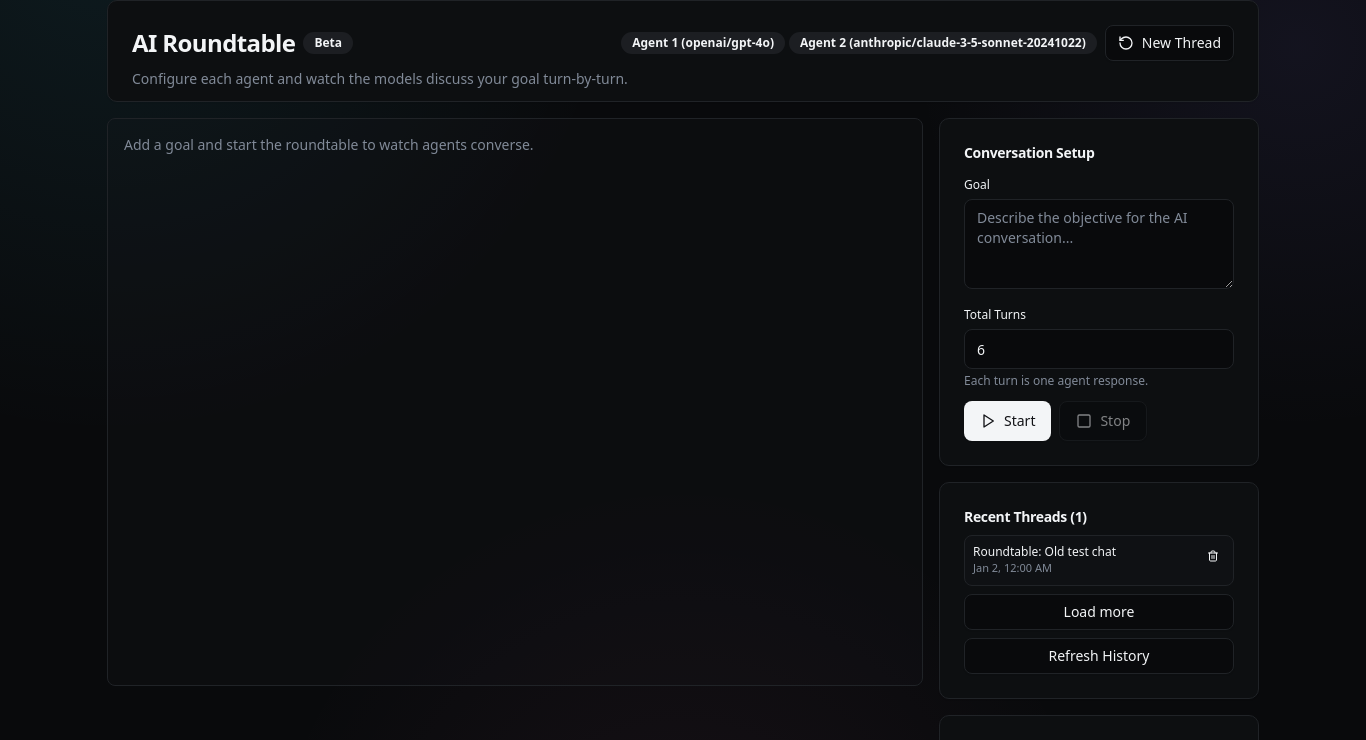
Test: AIRoundtablePage history behavior › preserves loaded history when an older page fails and retries the same cursor
Click the button "Load more" at (1099, 612), box [964,594,1234,630]
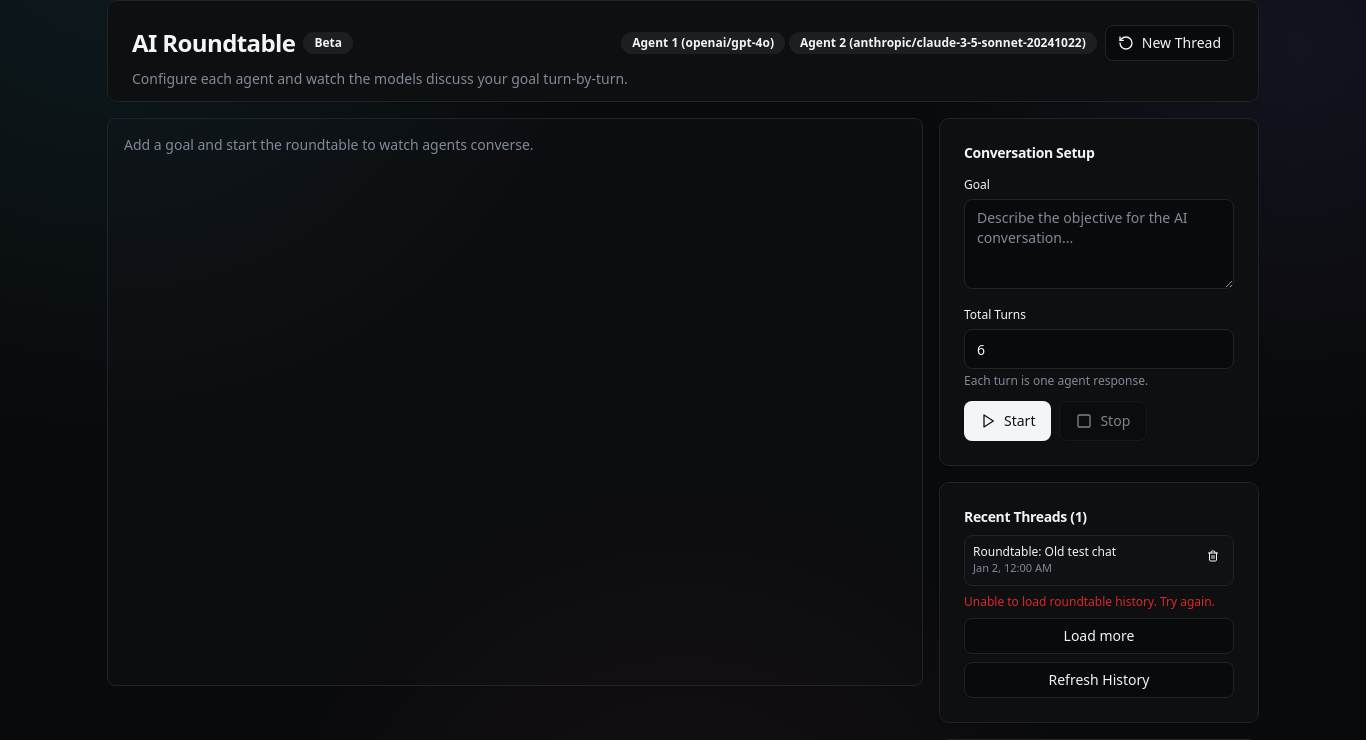
Expected: the text "Roundtable: Old test chat" is shown, [973,543,1116,560]
Now the message shows "Unable to load roundtable history", box [964,592,1215,610]
Click the button "Load more" at (1099, 636), box [964,618,1234,654]
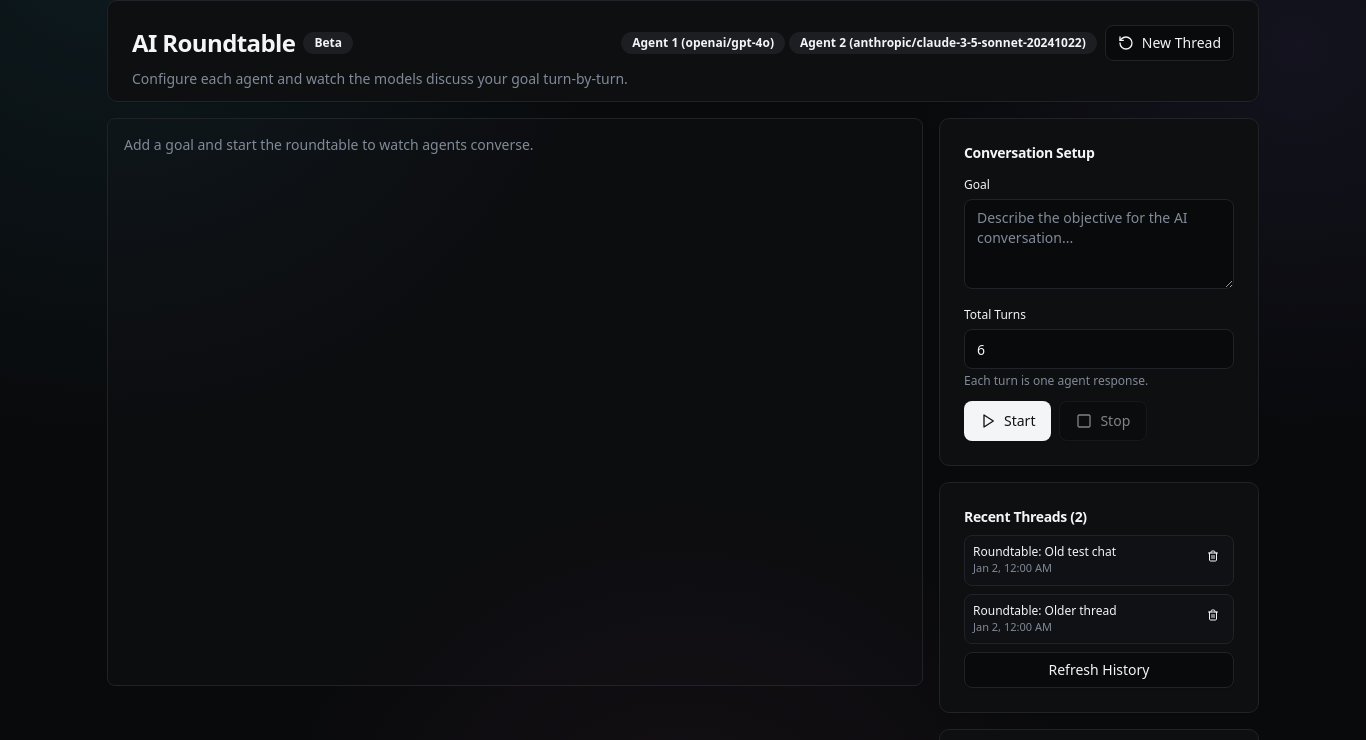
Expected: the text "Roundtable: Old test chat" is shown, [973,543,1116,560]
Now the text "Roundtable: Older thread" is shown, box [973,602,1117,618]
Now the button "Load more" is gone
